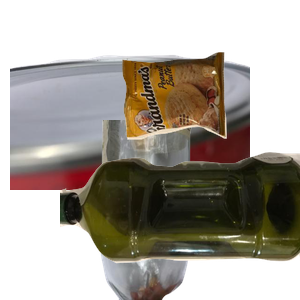glass: (96, 120, 283, 300)
metal: (10, 52, 250, 232)
plastic: (60, 149, 300, 300)
trash: (120, 50, 300, 182)
